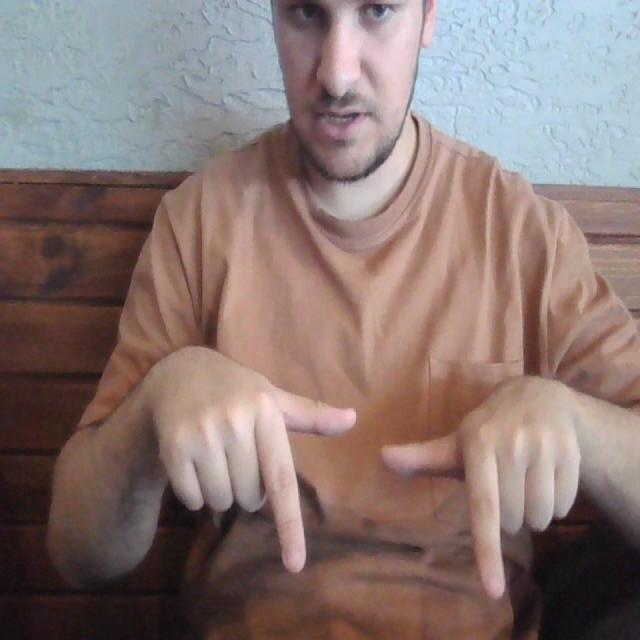Nerede: (251, 377, 511, 607)
